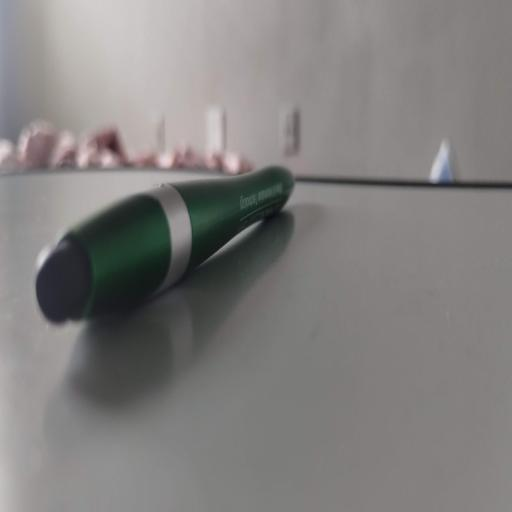pen: (36, 167, 293, 322)
